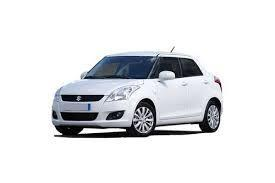Hatchback: (50, 50, 228, 136)
